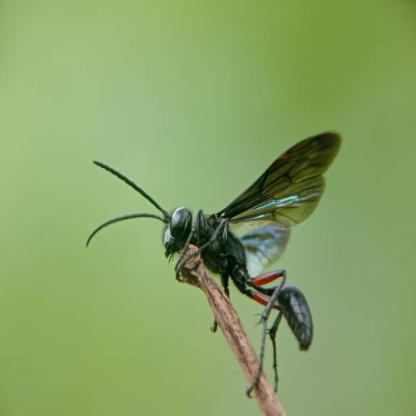sawfly: (83, 128, 341, 398)
